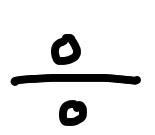div: (11, 33, 144, 127)
